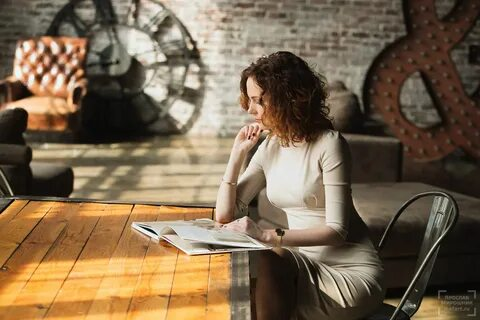awake: (214, 50, 385, 320)
